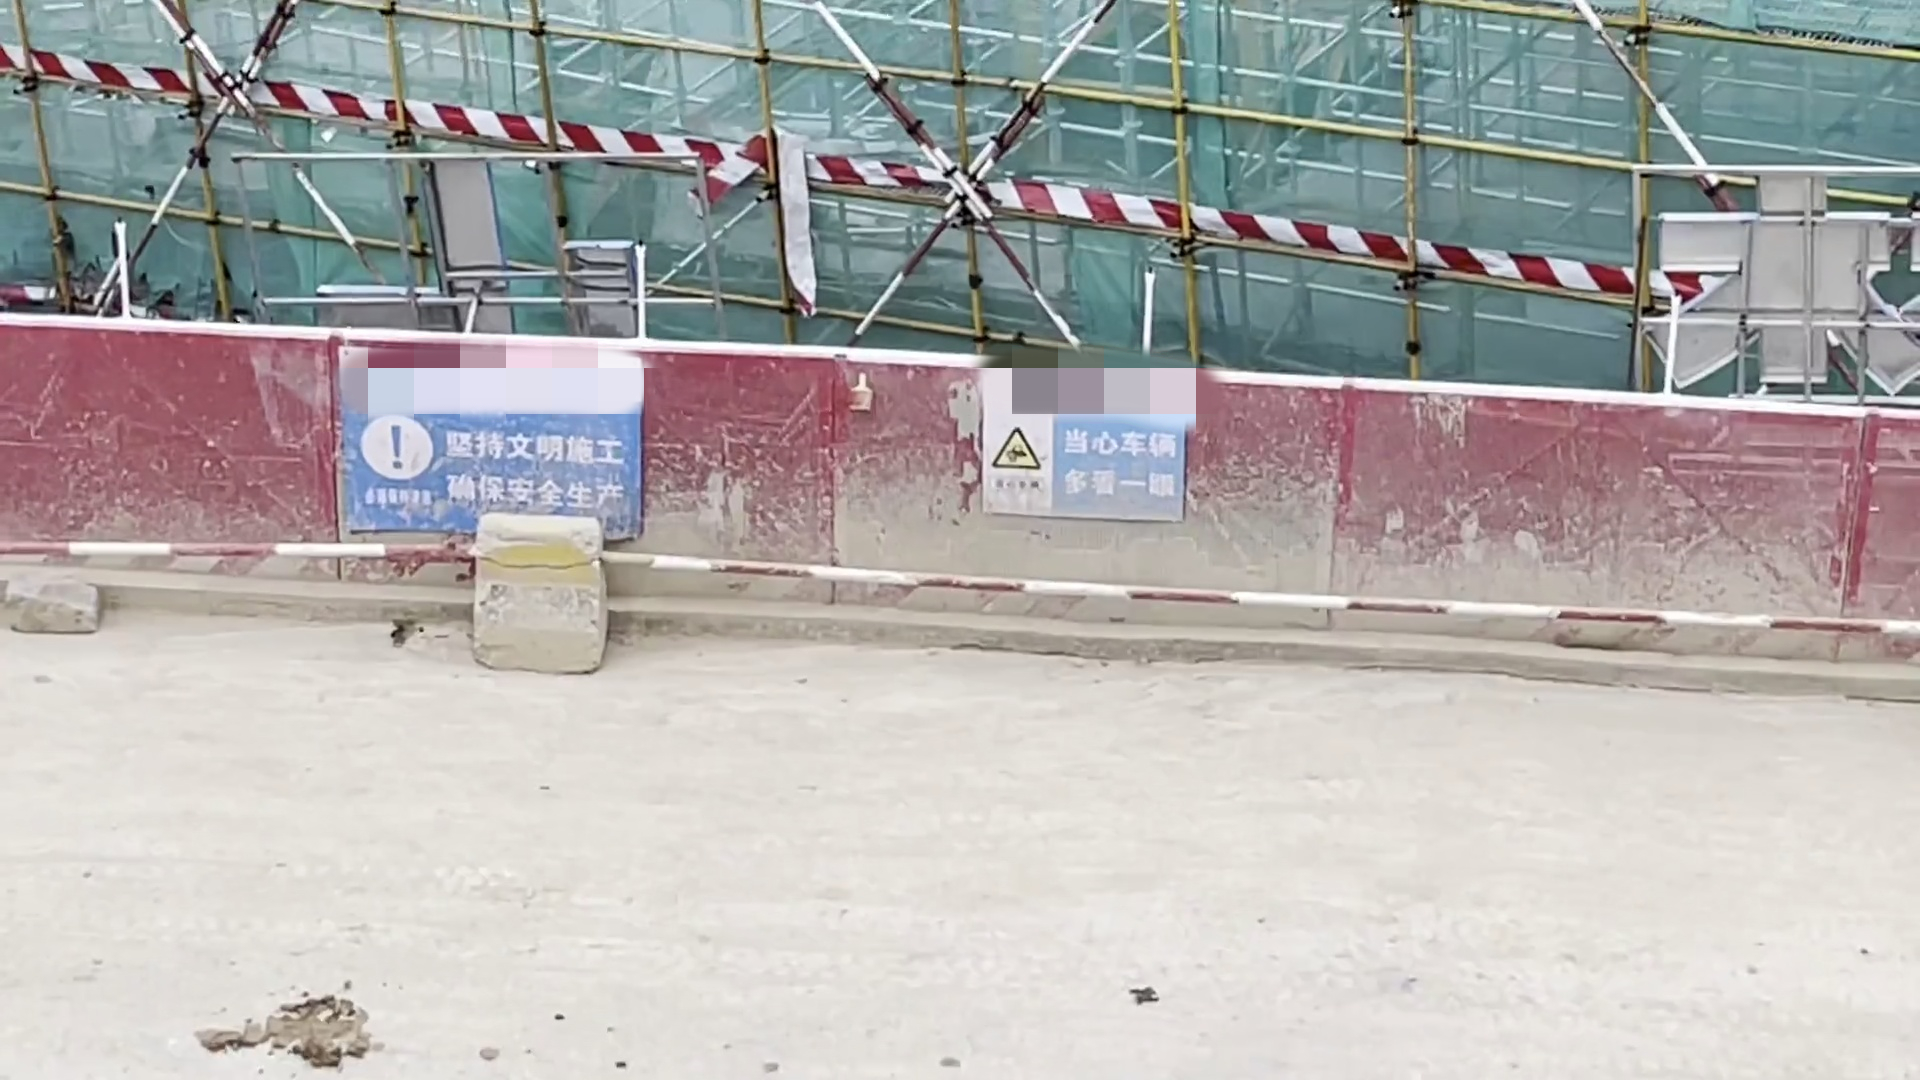fence: (3, 287, 1795, 678)
slogan: (320, 348, 636, 531), (982, 400, 1193, 525)
